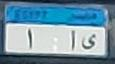1: (25, 27, 38, 49)
أ: (68, 27, 78, 51)
ي: (81, 29, 99, 48)
